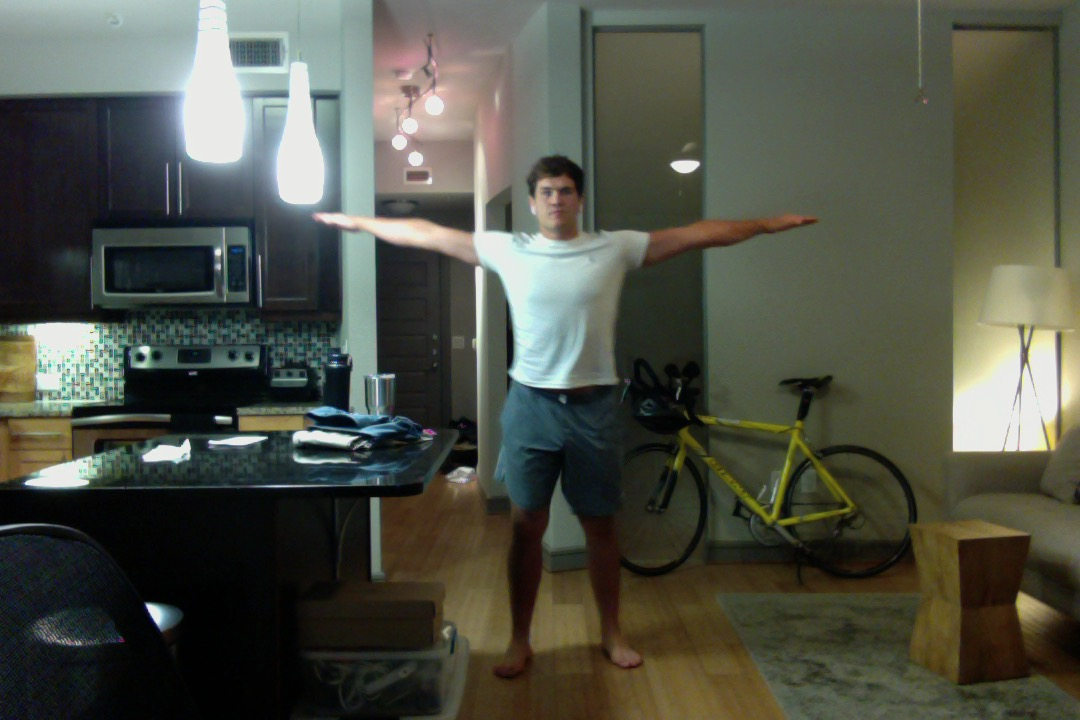T: (303, 141, 837, 688)
